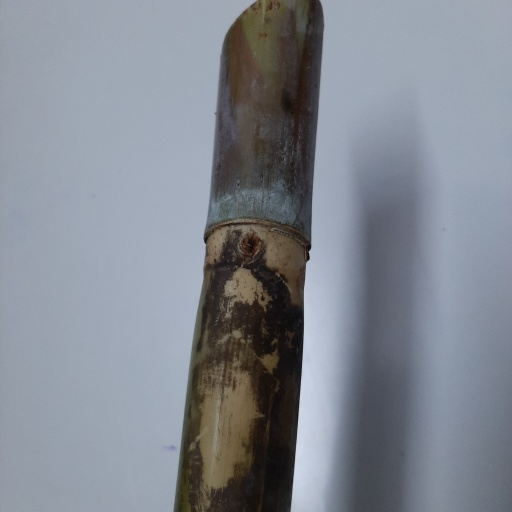Damage_Bud: (238, 227, 263, 258)
